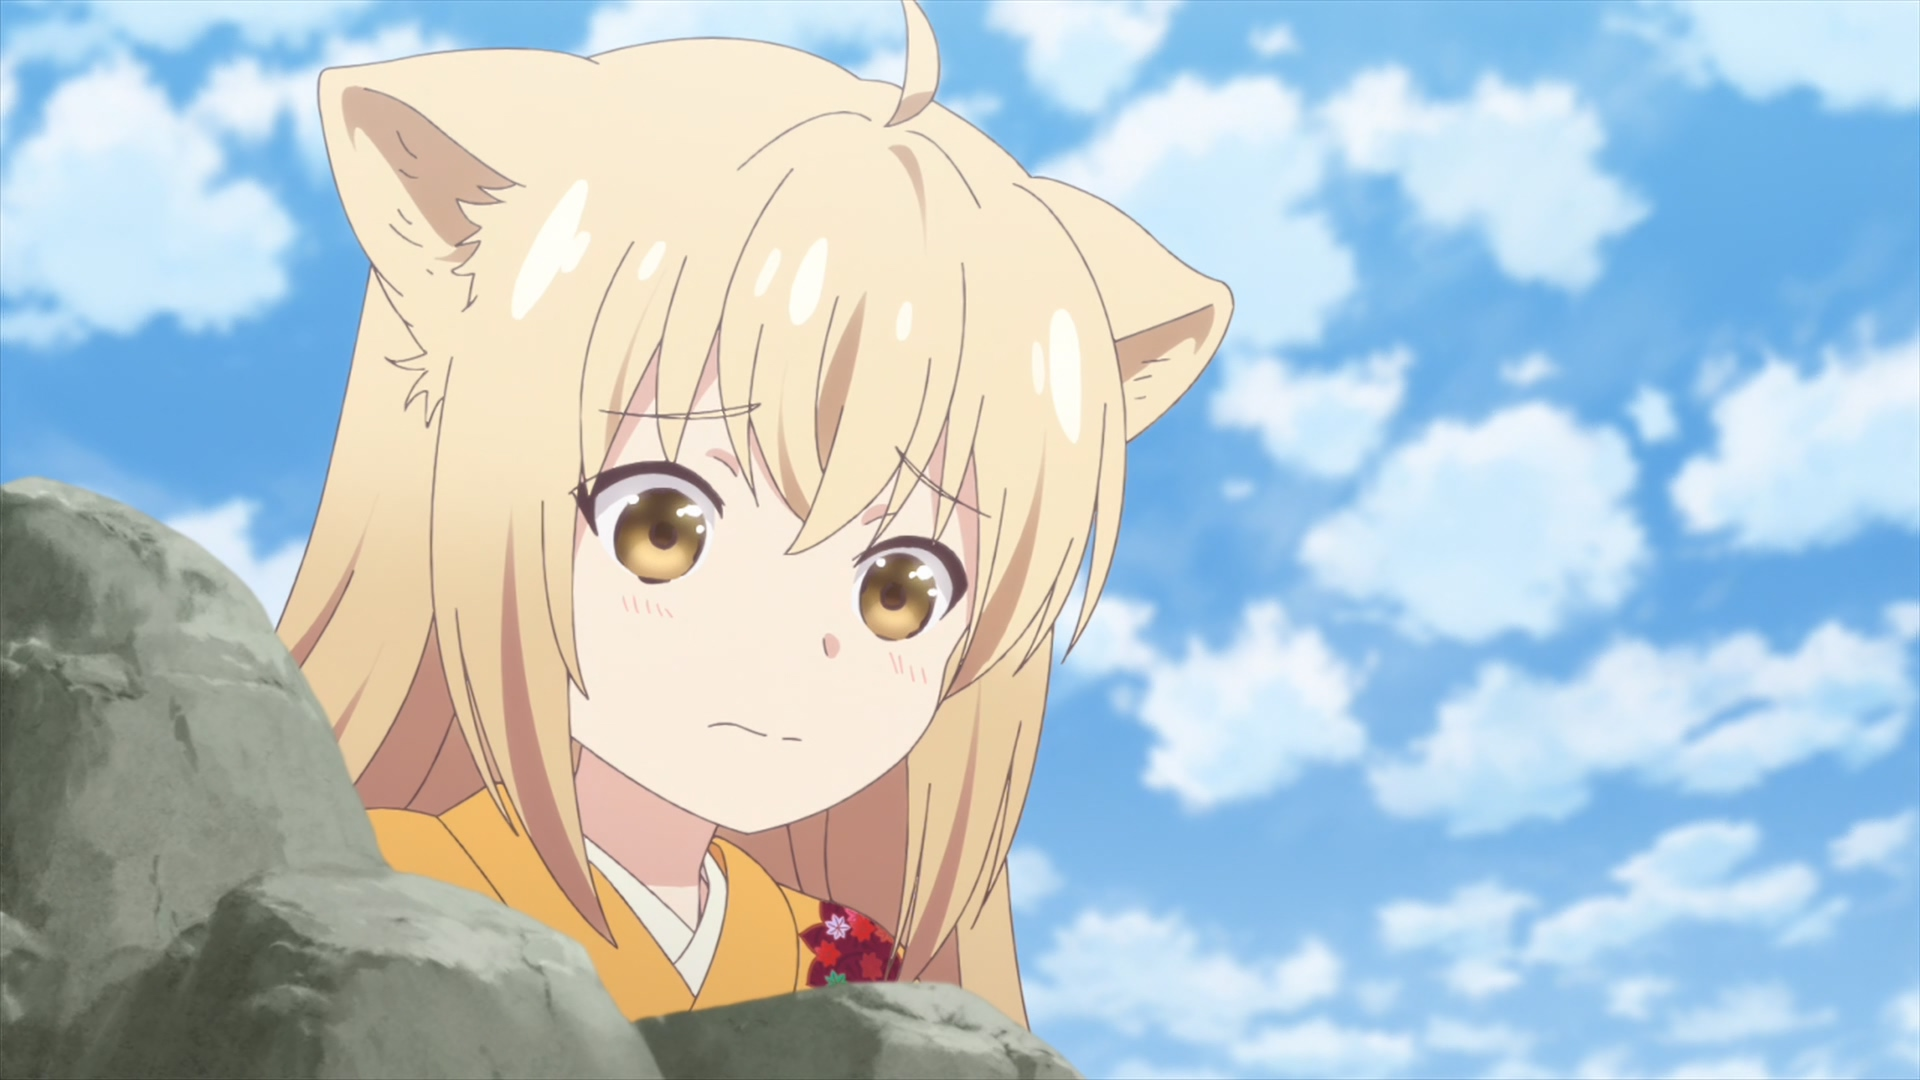柚: (274, 1, 1236, 1030)
